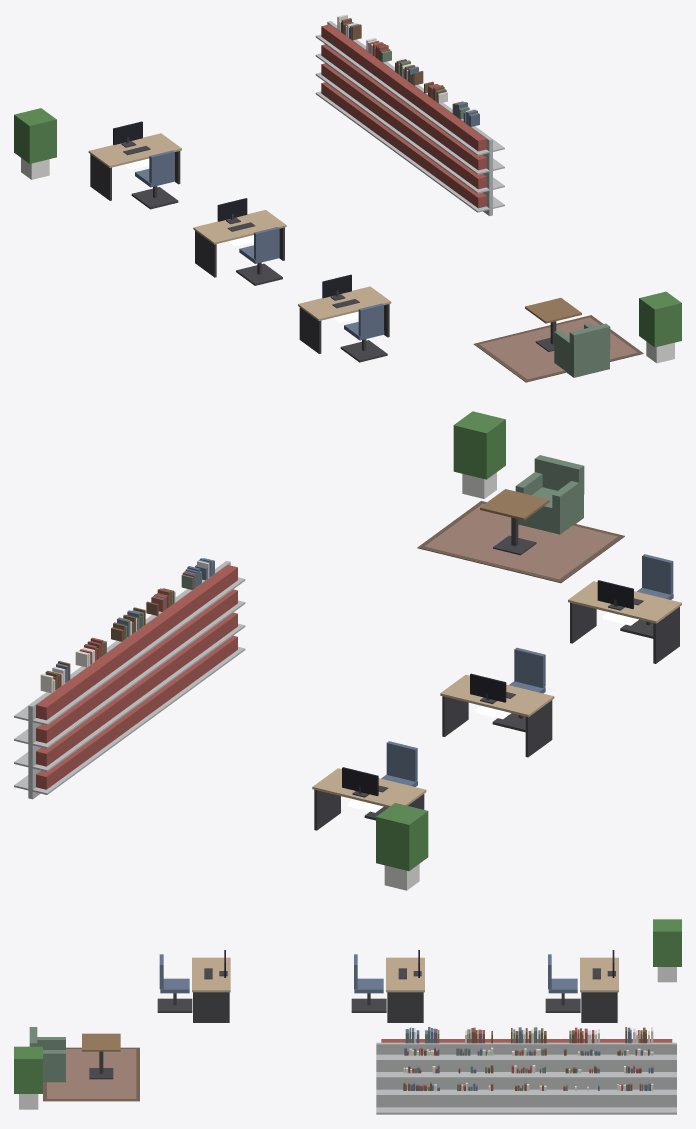
File: fine-s2.glb
3 views of the same model, one above another, from view 1: azimuth 30°, elevation 25°; view 2: azimuth 150°, elevation 25°; view 3: azimuth 270°, elevation 25° (orthographic). The views are drawn at different scales.
Parts seen in each view (by area): view 1: soft-s2, shelving.010, shelving.006, shelving.009, office-desk-real.005, office-desk-real.004, office-desk-real.003, shelving.007, shelving.008, plant-medium.003, plant-medium.002, sofa.001 (+4 smaller); view 2: soft-s2, shelving.006, shelving.010, office-desk-real.004, office-desk-real.005, shelving.008, shelving.007, plant-medium.003, sofa.001, plant-medium.002, office-desk-real.003, shelving.009 (+4 smaller); view 3: soft-s2, shelving.006, shelving.007, shelving.008, shelving.010, shelving.009, office-desk-real.003, office-desk-real.004, office-desk-real.005, plant-medium.002, plant-medium.003, sofa.001 (+4 smaller).
Boxes of the visible parts, x1=… form: soft-s2: x1=337, y1=14, x2=643, y2=382; shelving.010: x1=430, y1=107, x2=504, y2=216; shelving.006: x1=315, y1=21, x2=387, y2=127; shelving.009: x1=402, y1=85, x2=475, y2=191; office-desk-real.005: x1=298, y1=274, x2=391, y2=353; office-desk-real.004: x1=193, y1=198, x2=286, y2=277; office-desk-real.003: x1=88, y1=121, x2=181, y2=200; shelving.007: x1=344, y1=42, x2=402, y2=148; shelving.008: x1=373, y1=63, x2=446, y2=168; plant-medium.003: x1=14, y1=108, x2=56, y2=179; plant-medium.002: x1=639, y1=291, x2=681, y2=363; sofa.001: x1=554, y1=323, x2=610, y2=377; soft-s2: x1=40, y1=501, x2=624, y2=693; shelving.006: x1=14, y1=665, x2=104, y2=799; shelving.010: x1=175, y1=561, x2=245, y2=691; office-desk-real.004: x1=440, y1=673, x2=554, y2=757; office-desk-real.005: x1=568, y1=580, x2=681, y2=663; shelving.008: x1=106, y1=613, x2=174, y2=742; shelving.007: x1=70, y1=640, x2=139, y2=767; plant-medium.003: x1=376, y1=803, x2=428, y2=890; sofa.001: x1=515, y1=455, x2=584, y2=534; plant-medium.002: x1=453, y1=411, x2=505, y2=498; office-desk-real.003: x1=312, y1=767, x2=426, y2=830; shelving.009: x1=139, y1=590, x2=209, y2=717; soft-s2: x1=43, y1=1027, x2=653, y2=1101; shelving.006: x1=589, y1=1039, x2=676, y2=1114; shelving.007: x1=536, y1=1039, x2=623, y2=1114; shelving.008: x1=483, y1=1039, x2=570, y2=1114; shelving.010: x1=376, y1=1039, x2=463, y2=1114; shelving.009: x1=429, y1=1039, x2=516, y2=1114; office-desk-real.003: x1=580, y1=950, x2=618, y2=1022; office-desk-real.004: x1=386, y1=950, x2=424, y2=1022; office-desk-real.005: x1=192, y1=950, x2=230, y2=1022; plant-medium.002: x1=14, y1=1046, x2=42, y2=1109; plant-medium.003: x1=653, y1=919, x2=681, y2=982; sofa.001: x1=29, y1=1027, x2=65, y2=1082.
Bounding box in the file's own units: 7.2 × 1.93 × 13.77.
